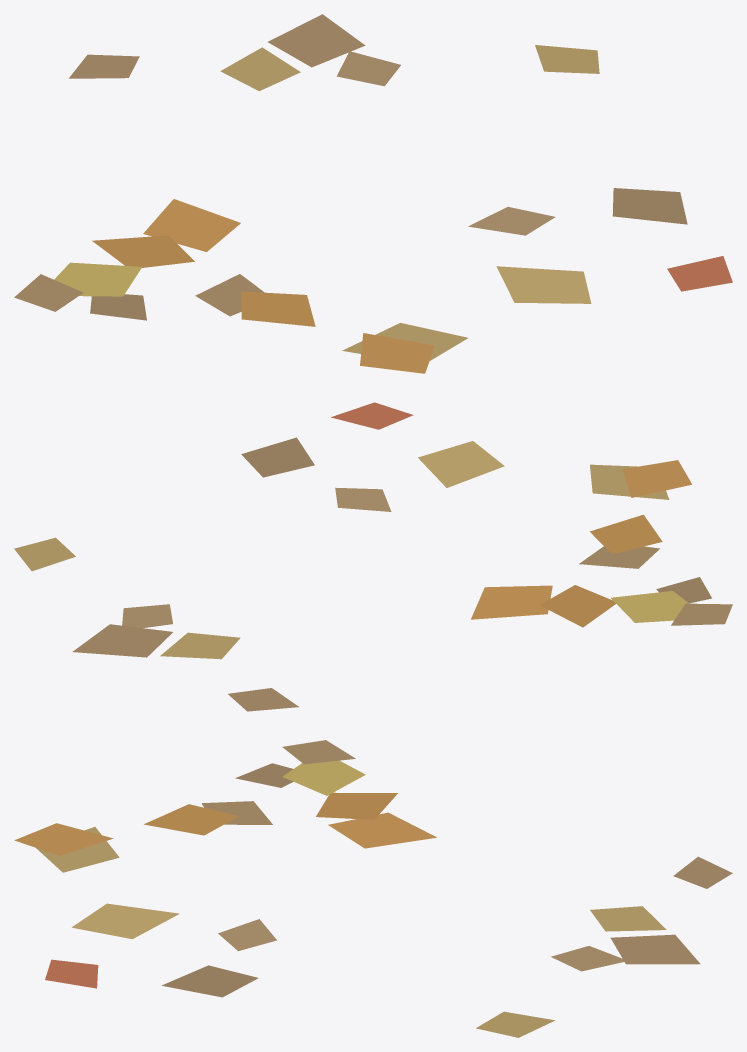
File: leaf_litter.glb
3 renders of one model, top to bottom at view 1: azimuth 30°, elevation 25°; view 2: azimuth 150°, elevation 25°; view 3: azimuth 270°, elevation 25°, orthographic. The views are drawn at different scales.
Visible parts, largest first — view 1: leaf_litter; view 2: leaf_litter; view 3: leaf_litter.
Part boxes in pixels (x1,y1,x2,y2): leaf_litter: [14, 14, 732, 373]; leaf_litter: [14, 402, 732, 711]; leaf_litter: [14, 740, 732, 1037].
Size of the model in its own units: 1.85 by 0.0147 by 1.91.
